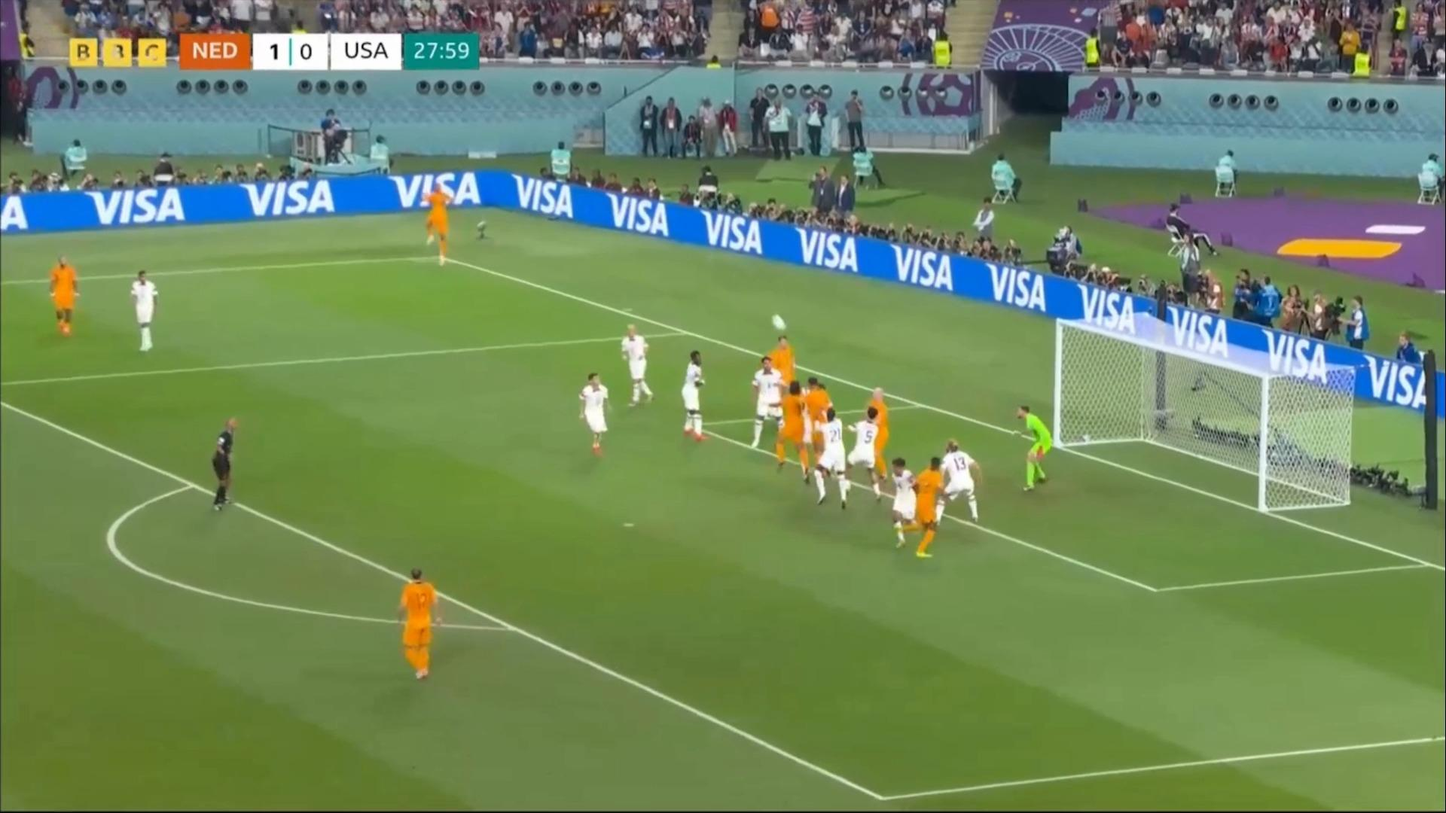Ball: (772, 314, 788, 333)
Player: (394, 562, 445, 686), (896, 457, 945, 562), (934, 440, 983, 525), (812, 406, 850, 511), (843, 406, 883, 504), (44, 252, 85, 342), (124, 266, 163, 357), (750, 357, 787, 451), (577, 369, 615, 460), (1015, 405, 1053, 492), (420, 183, 459, 263), (619, 323, 655, 408), (677, 351, 710, 443), (889, 458, 921, 549), (777, 381, 809, 471), (804, 383, 834, 474), (802, 379, 831, 469), (864, 383, 888, 482), (769, 335, 795, 385)
Ref: (205, 417, 243, 519)
